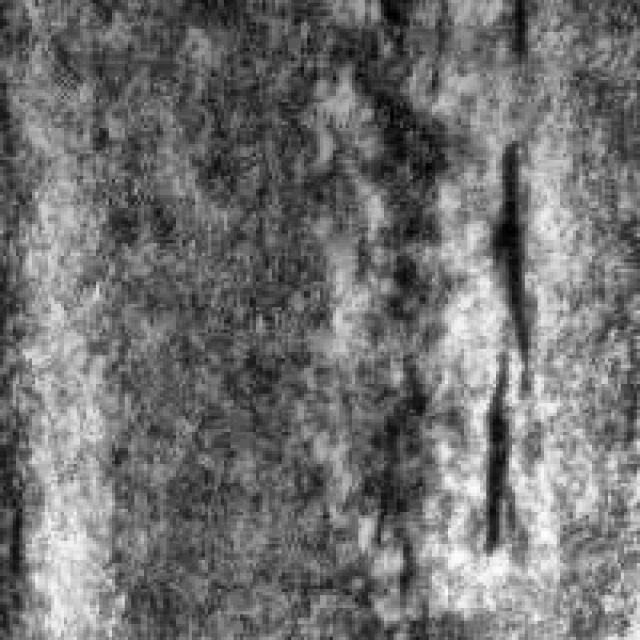Patches: (454, 128, 534, 368), (467, 342, 522, 570)
